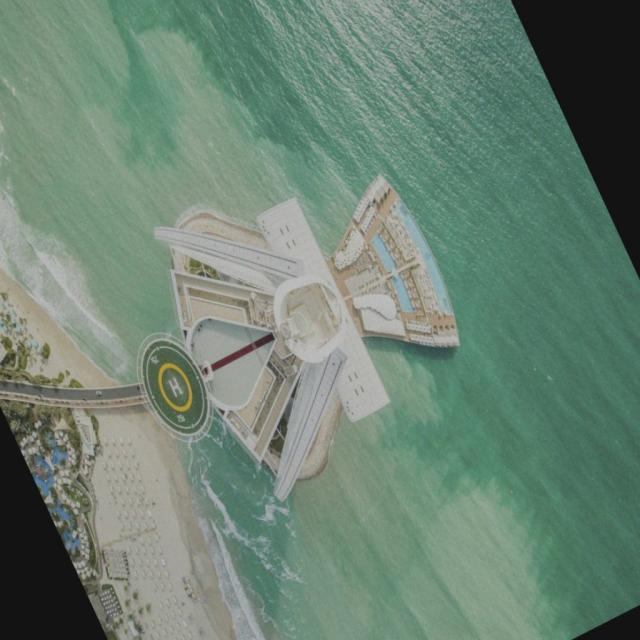helipad: (157, 361, 194, 412)
